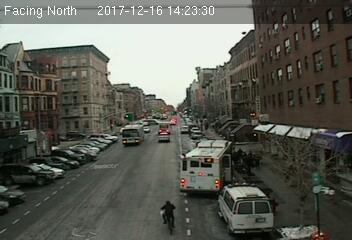bicycle: (159, 201, 181, 236)
bus: (180, 140, 233, 193), (121, 125, 144, 145)
car: (158, 133, 170, 142), (179, 126, 190, 133)
police: (216, 182, 274, 233)
